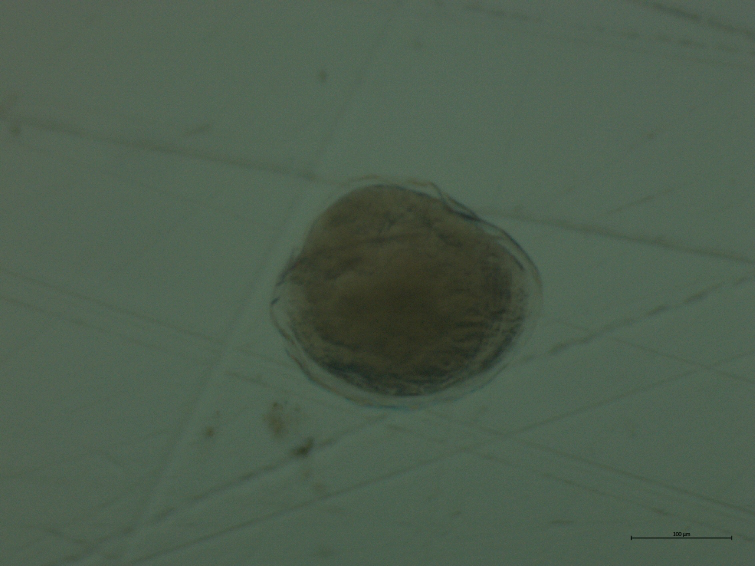oyster: (264, 169, 551, 418)
